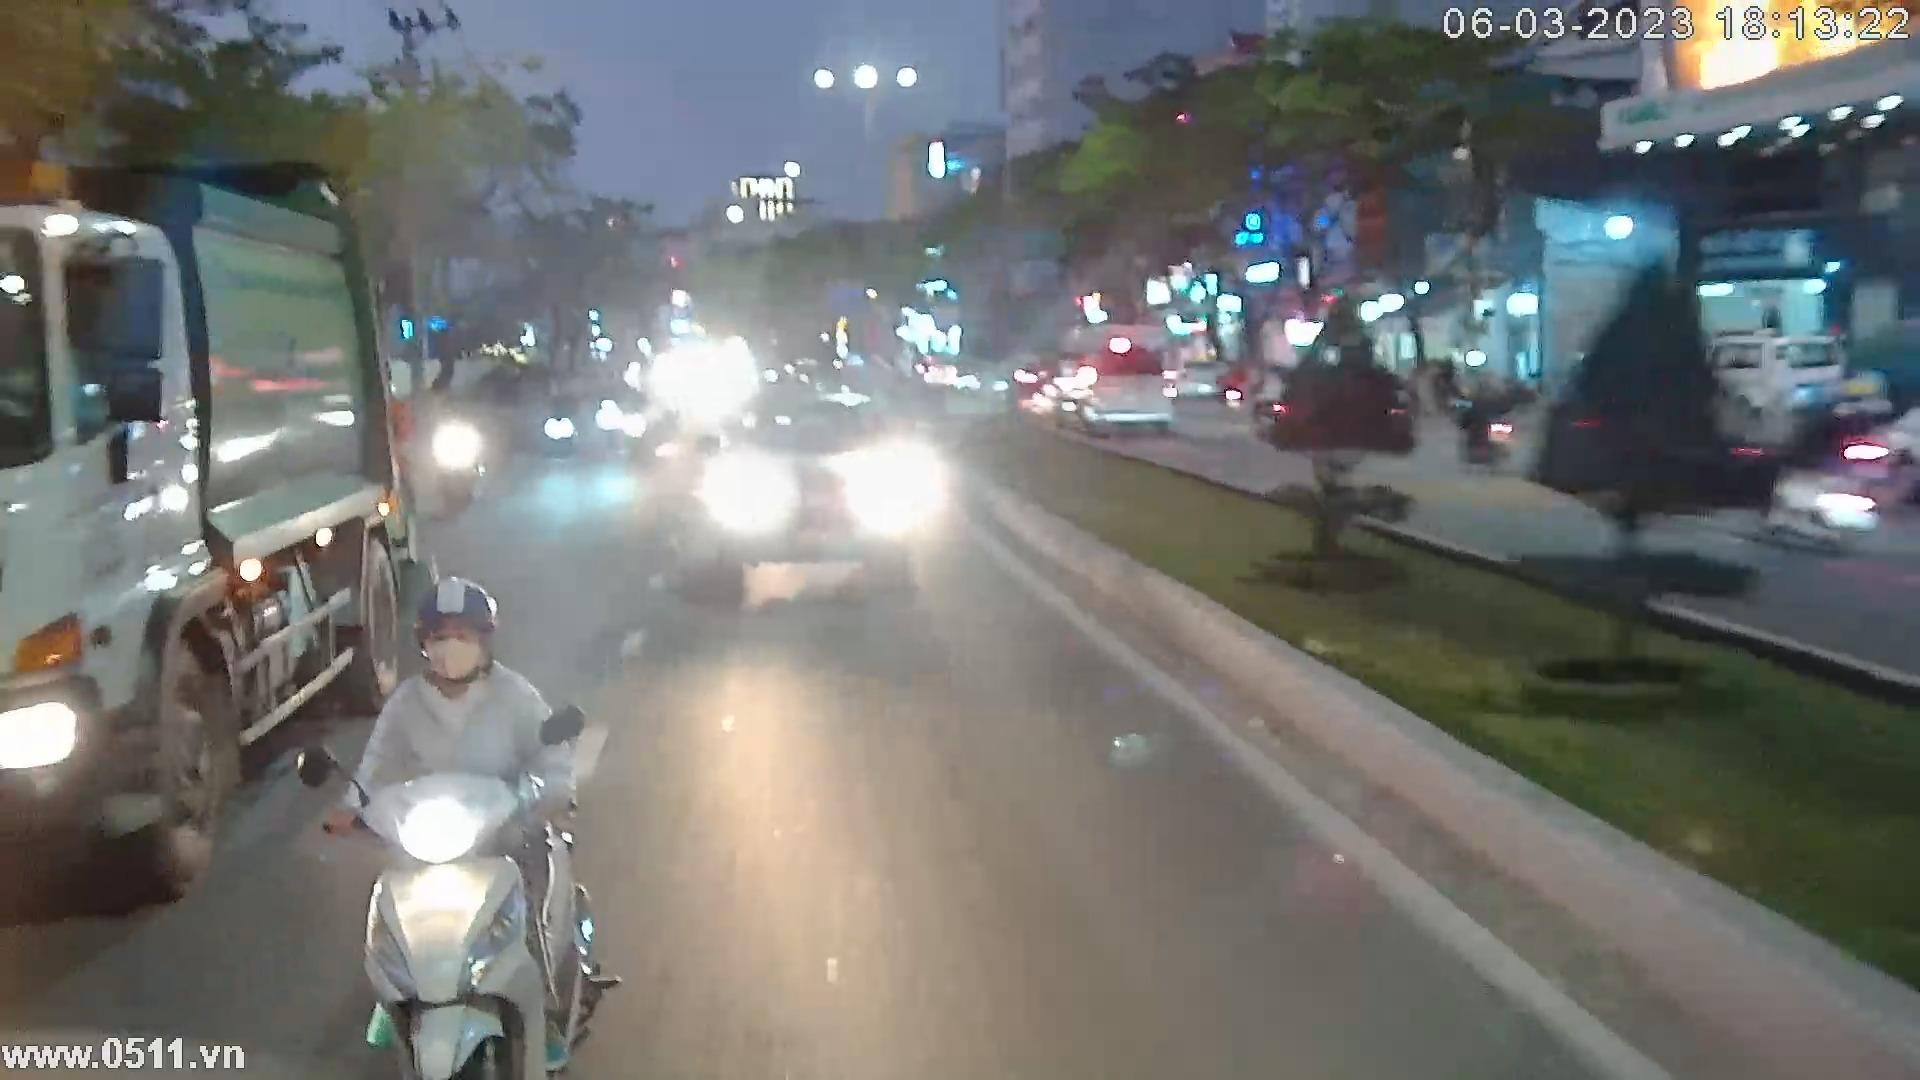bus: (1058, 328, 1172, 434)
car: (707, 385, 930, 612), (1749, 386, 1887, 564)
motorcycle: (290, 562, 626, 1080)
truck: (0, 157, 430, 897)
